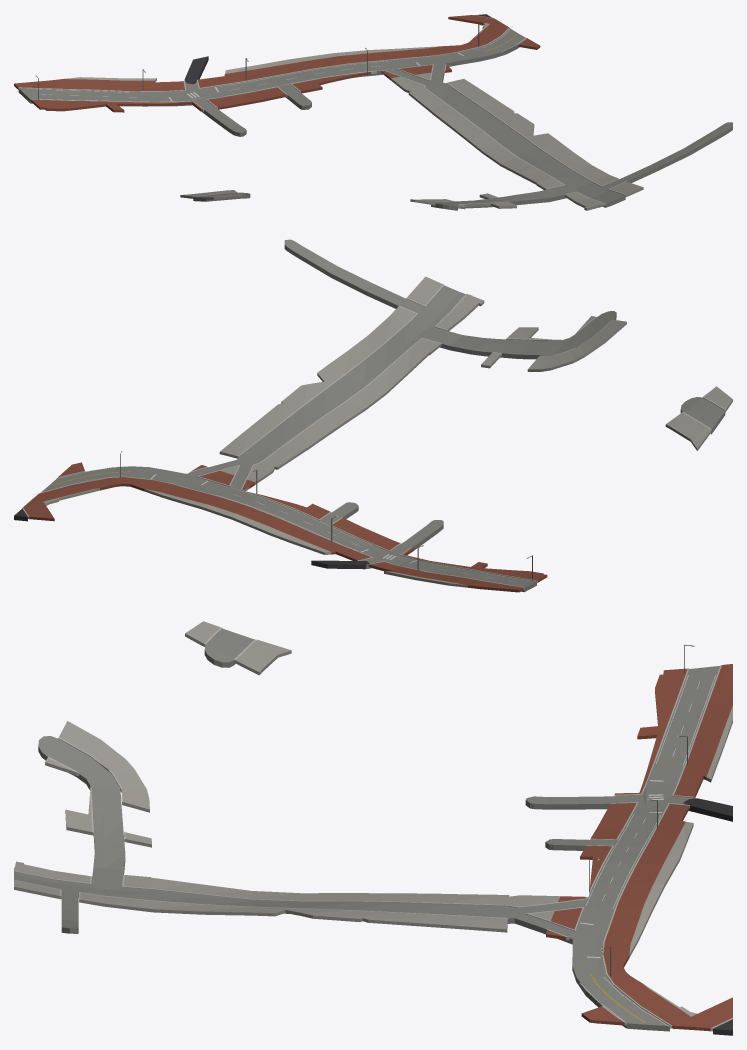
3 views of the same model, one above another, from view 1: azimuth 30°, elevation 25°; view 2: azimuth 150°, elevation 25°; view 3: azimuth 270°, elevation 25° (orthographic). The views are drawn at different scales.
Size of the model in its own units: 148 by 24.83 by 146.
